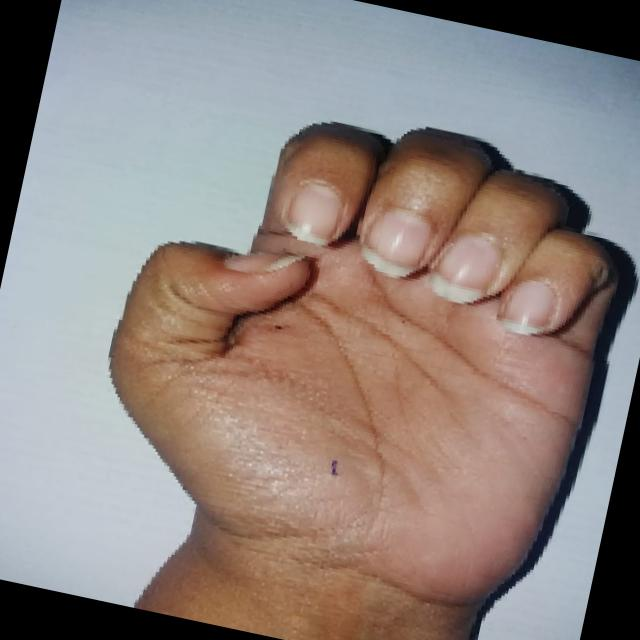Nail: (429, 234, 502, 302), (363, 207, 432, 277), (286, 184, 343, 245), (502, 278, 556, 334), (225, 253, 303, 273)
